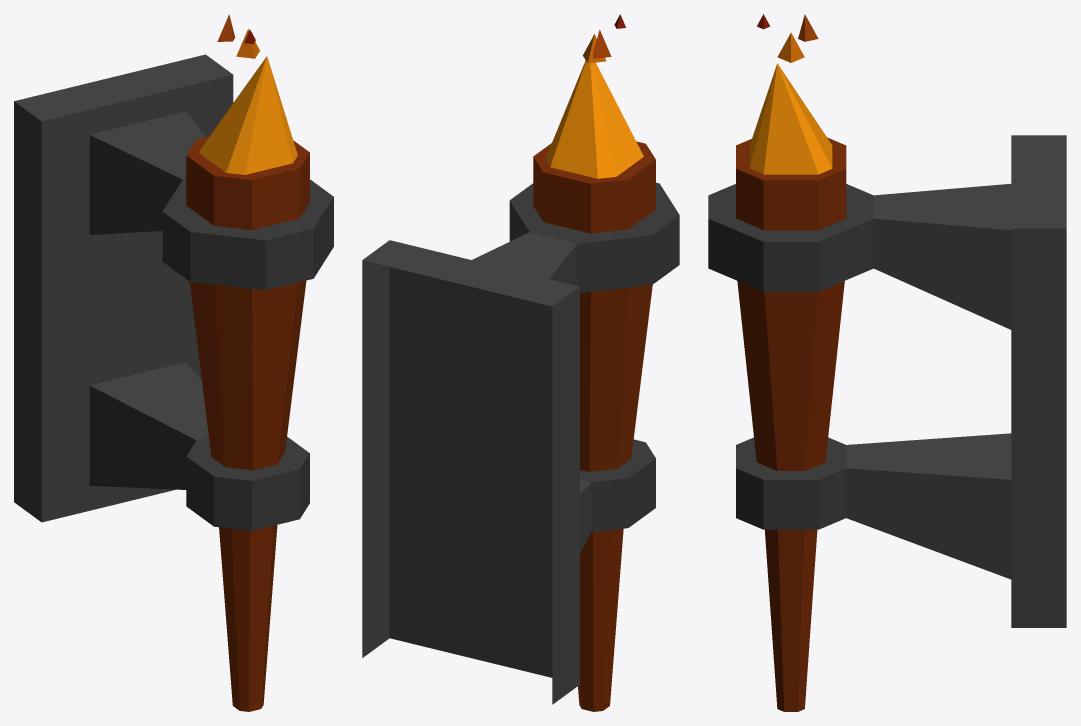
The model's file is torcha3.obj.
3 renders of one model, left to right at view 1: azimuth 30°, elevation 25°; view 2: azimuth 150°, elevation 25°; view 3: azimuth 270°, elevation 25°, orthographic.
Parts seen in each view (by area): view 1: torcha3_back; view 2: torcha3_back; view 3: torcha3_back.
Part boxes in pixels (x1=…): torcha3_back: x1=14, y1=14, x2=333, y2=711; torcha3_back: x1=362, y1=14, x2=679, y2=711; torcha3_back: x1=708, y1=14, x2=1066, y2=711.
Bounding box in the file's own units: 0.32 × 1.1 × 0.52.
